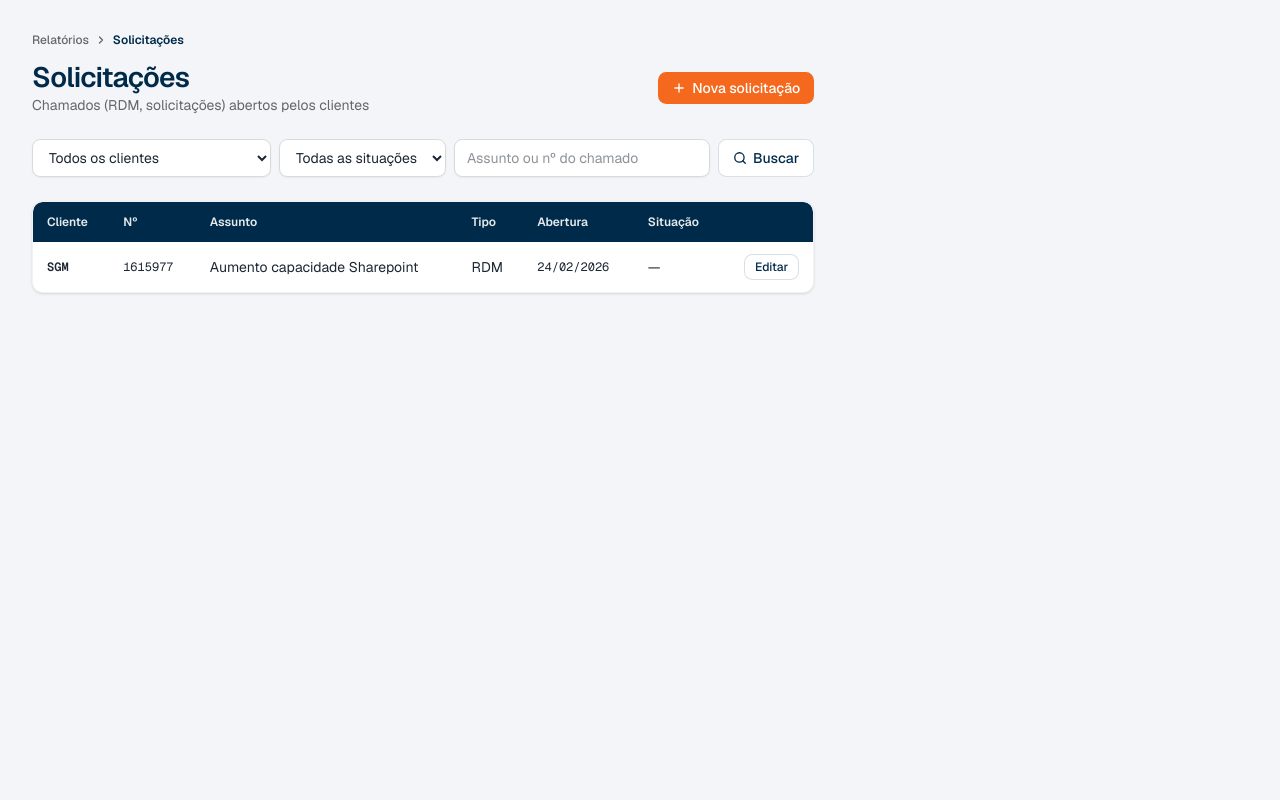
SolicitacoesPage › mostra a mensagem da API quando salvar falha
The width and height of the screenshot is (1280, 800).
Click the button "Nova solicitação" at {"x": 736, "y": 88}, box 658,72 -> 814,104
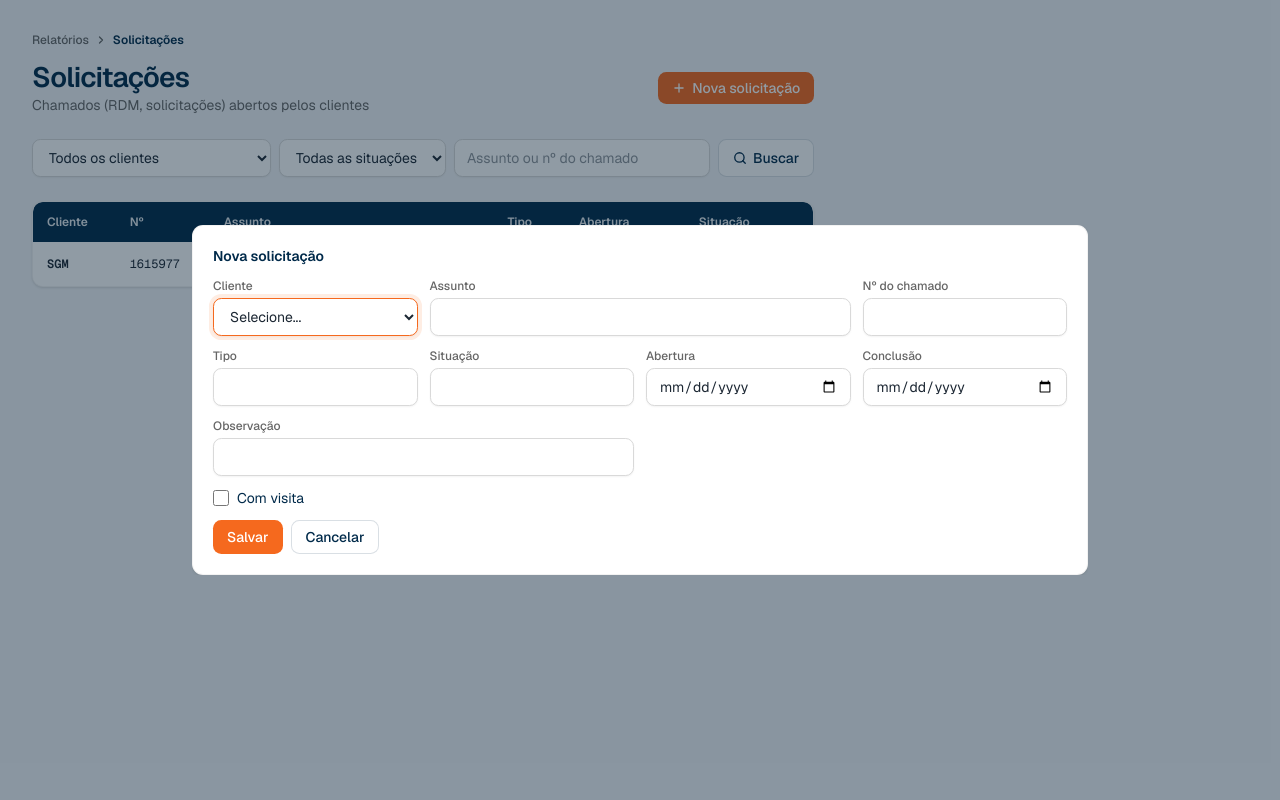
Select "SMS — Secretaria da Saúde" in the dropdown labelled "Cliente" at {"x": 315, "y": 317}, box 213,298 -> 418,336
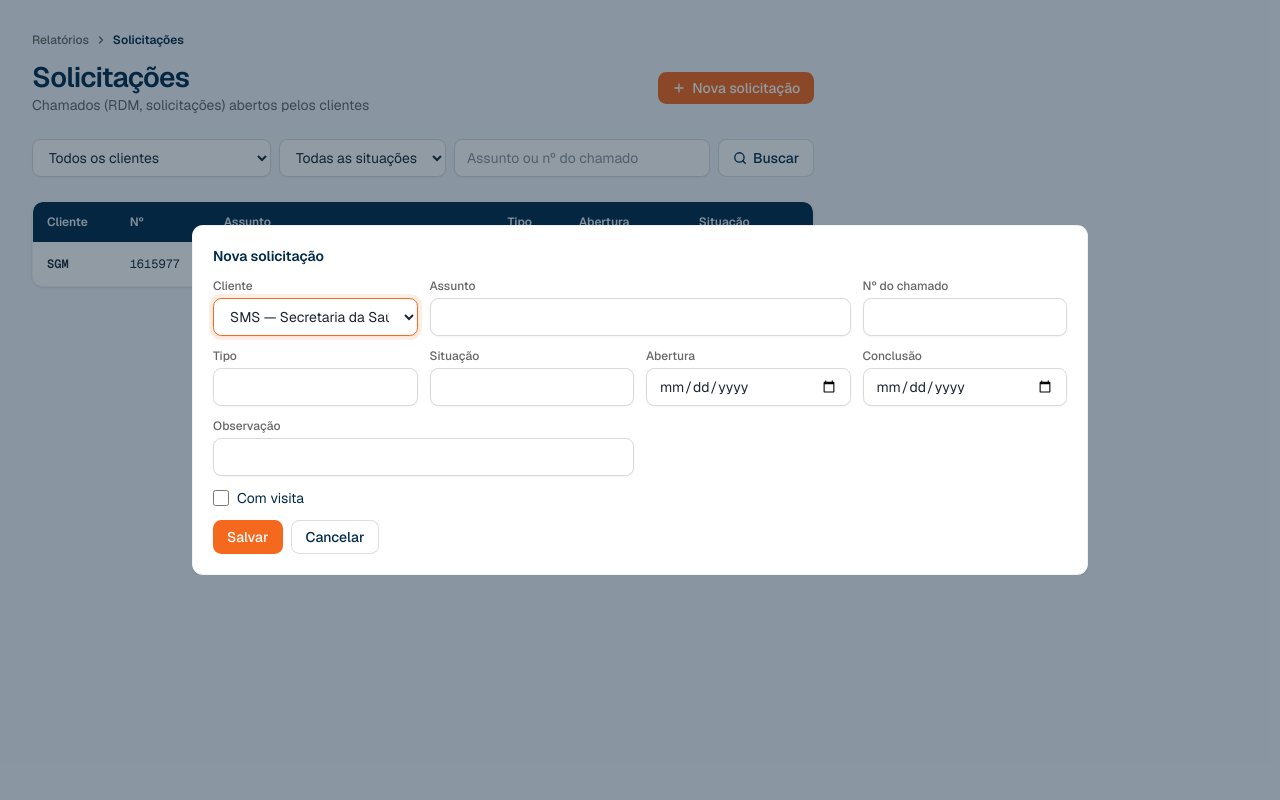
Type "X" into the field labelled "Assunto" at {"x": 640, "y": 317}, box 430,298 -> 850,336
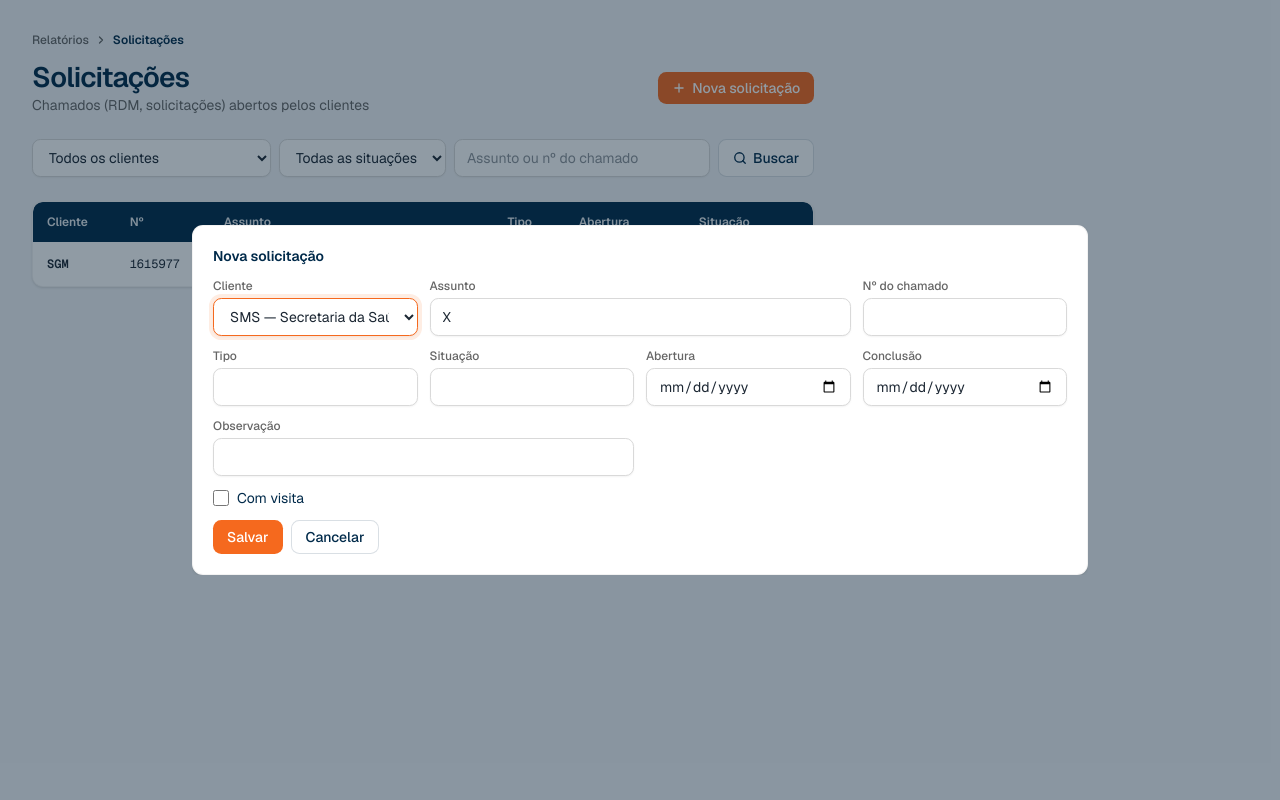
Click the button "Salvar" at {"x": 248, "y": 537}, box 213,520 -> 282,554
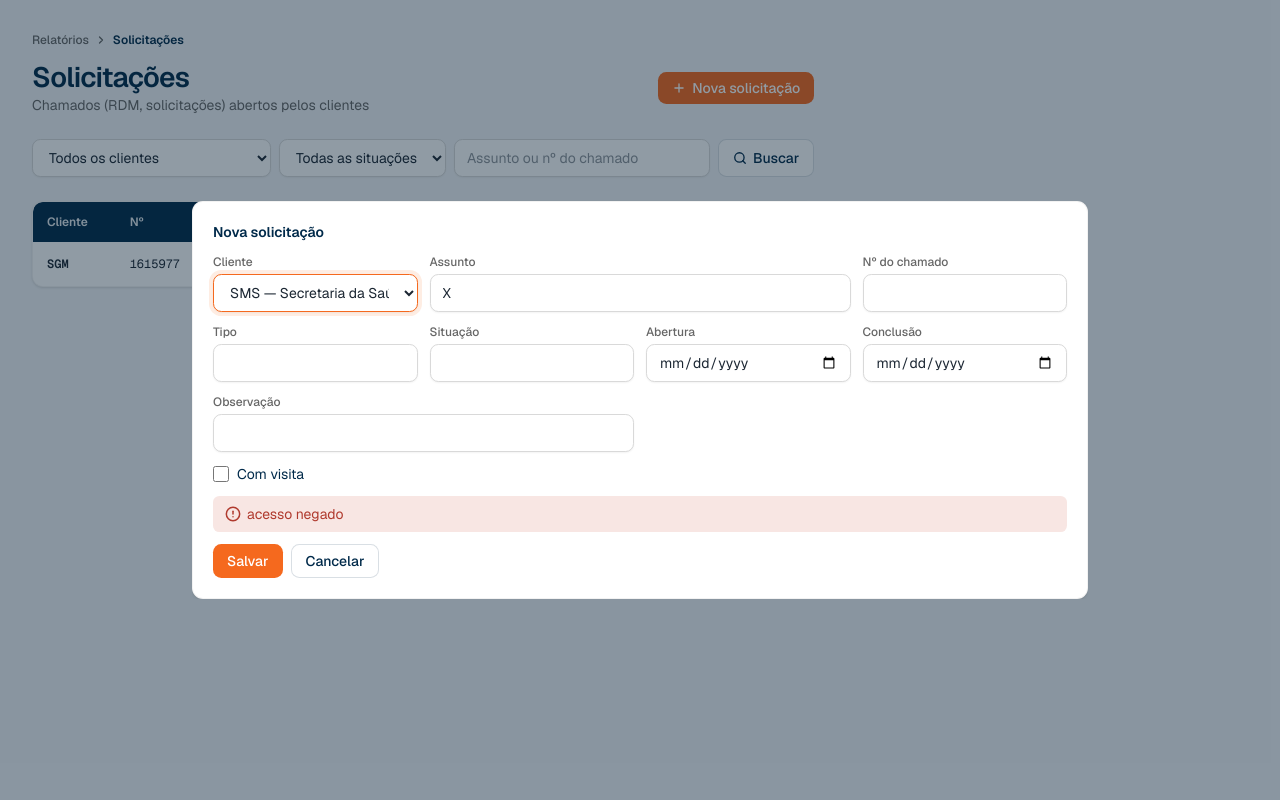
Check: the text "acesso negado" is shown, box 213,496 -> 1067,532
